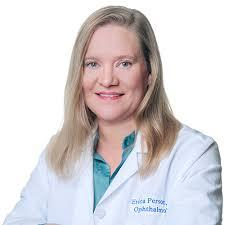person: (63, 4, 172, 126)
